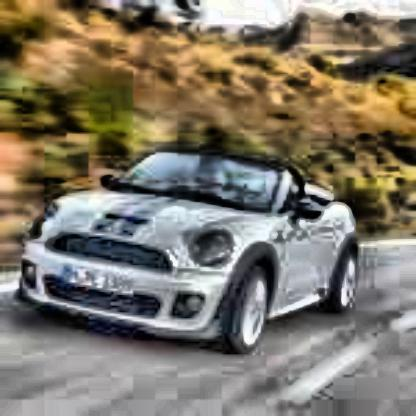MINI Cooper Roadster Convertible 2012: (20, 145, 361, 358)
